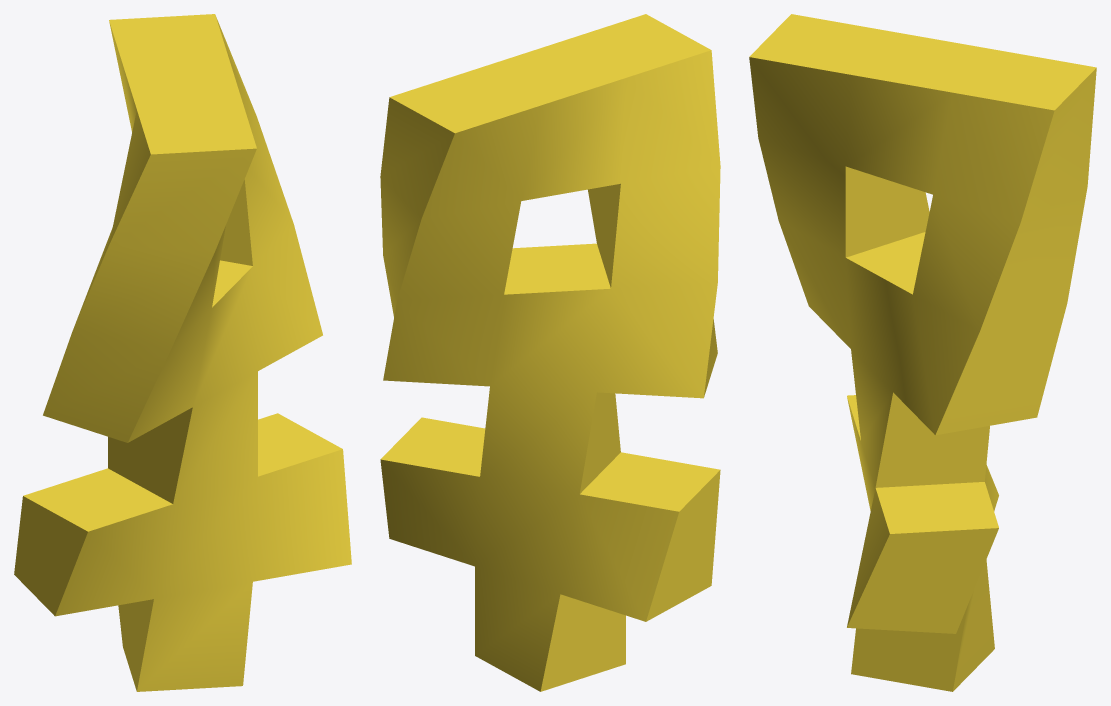
The model's file is key.fbx.
3 views of the same model, side by side, from view 1: azimuth 30°, elevation 25°; view 2: azimuth 150°, elevation 25°; view 3: azimuth 270°, elevation 25° (orthographic). The views are drawn at different scales.
Visible parts, largest first — view 1: Key; view 2: Key; view 3: Key.
Boxes of the visible parts, x1,y1,x2,y2 form: Key: [14, 14, 351, 691]; Key: [380, 14, 720, 691]; Key: [749, 14, 1096, 691].
Bounding box in the file's own units: 0.6309 × 1.2 × 0.6309.
